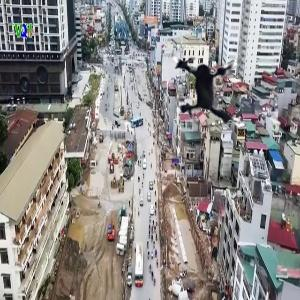drone: (155, 26, 275, 146)
